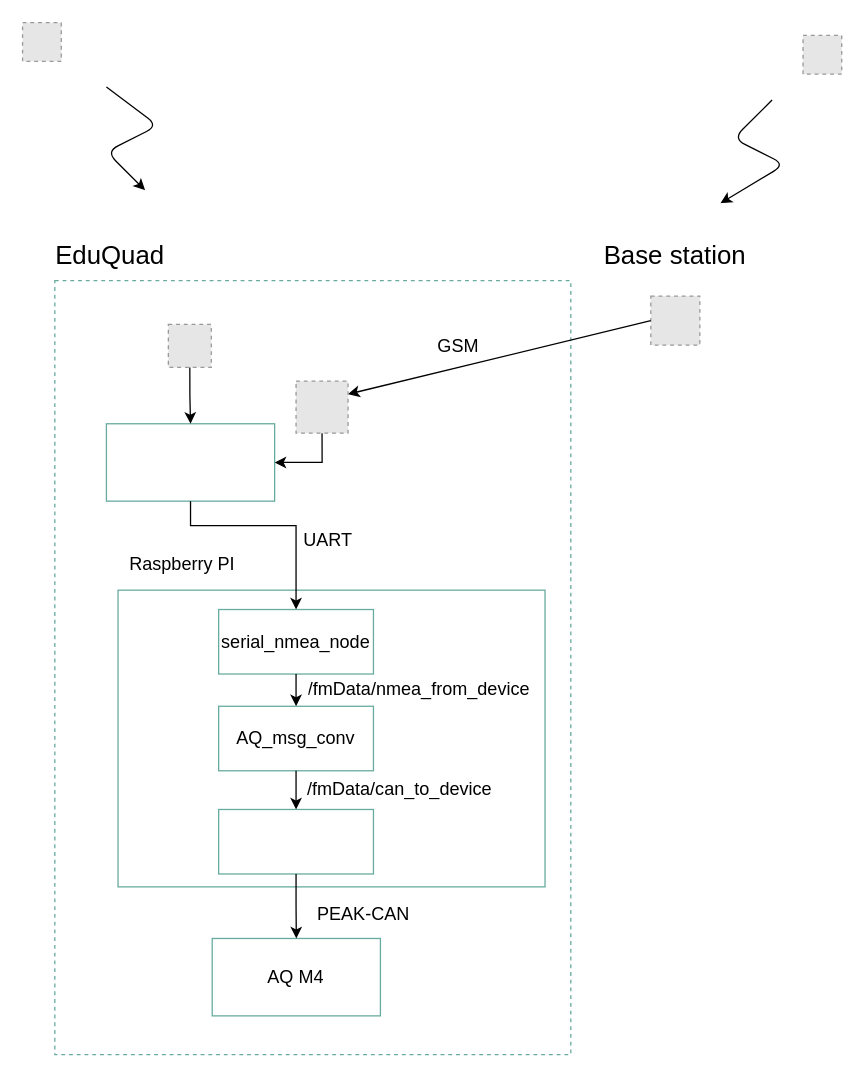
The diagram is 864 pixels wide and 1077 high, and some of its shapes have lost their labels. Grey dashed boxes stand in for pictures. Here are the shapes that lost their labels. From the top down, the box of each, then its label:
(105, 422, 275, 501): RTK GPS
(217, 808, 373, 874): can_socket_node
